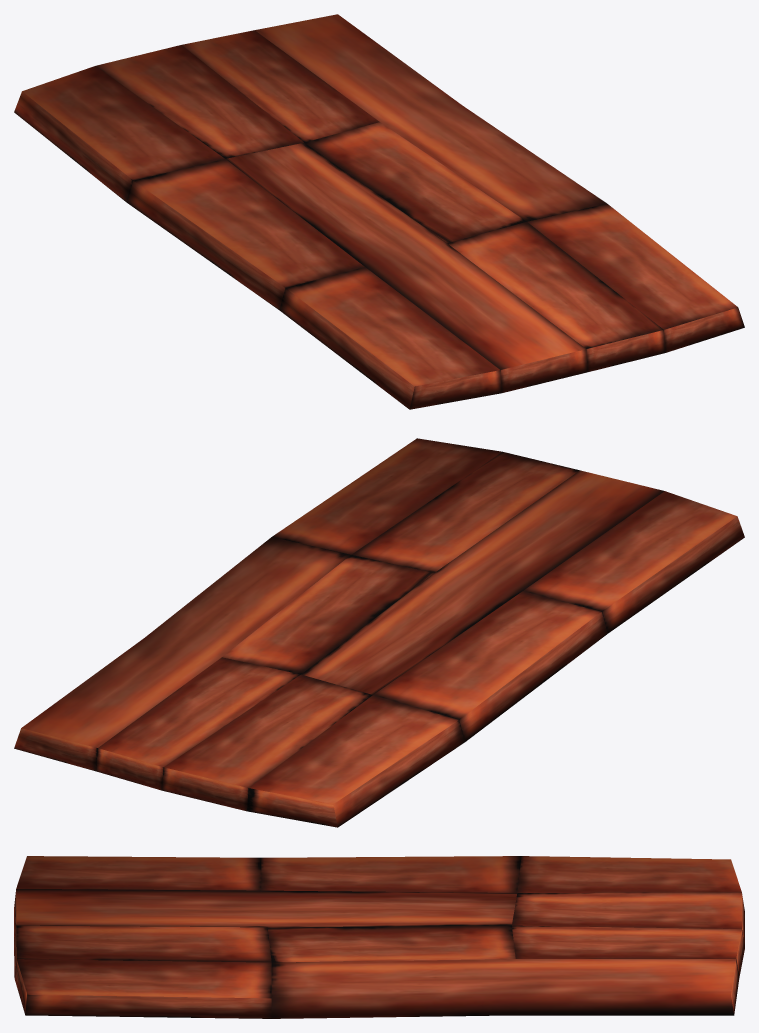
File: pier_wood_planks.DAE
3 renders of one model, top to bottom at view 1: azimuth 30°, elevation 25°; view 2: azimuth 150°, elevation 25°; view 3: azimuth 270°, elevation 25°, orthographic. The views are drawn at different scales.
Visible parts, largest first — view 1: Box01; view 2: Box01; view 3: Box01.
Boxes of the visible parts, <box> form: Box01: <box>14,14,744,409</box>; Box01: <box>14,438,744,827</box>; Box01: <box>14,856,744,1018</box>.
Bounding box in the file's own units: 7.51 × 0.4659 × 15.74.
